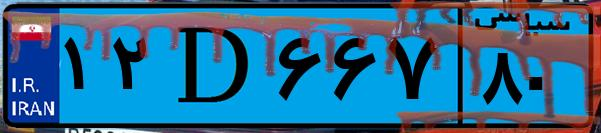0: (525, 38, 570, 115)
1: (57, 26, 110, 100)
2: (110, 28, 158, 98)
6: (270, 28, 330, 110), (330, 28, 385, 110)
7: (385, 28, 445, 110)
8: (475, 38, 525, 113)
D: (158, 12, 270, 120)
